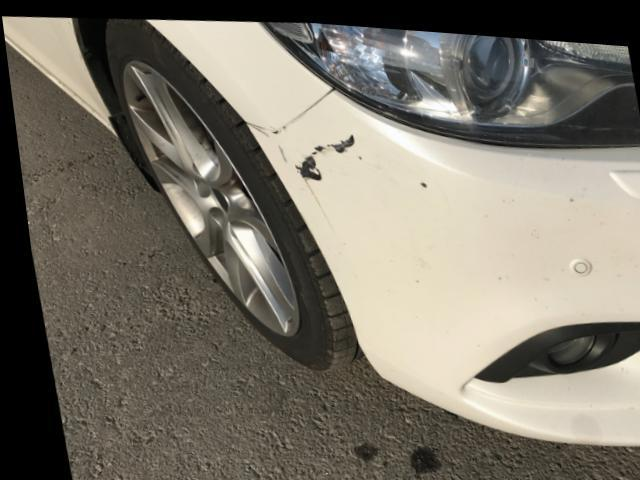scratch: (286, 128, 351, 196)
